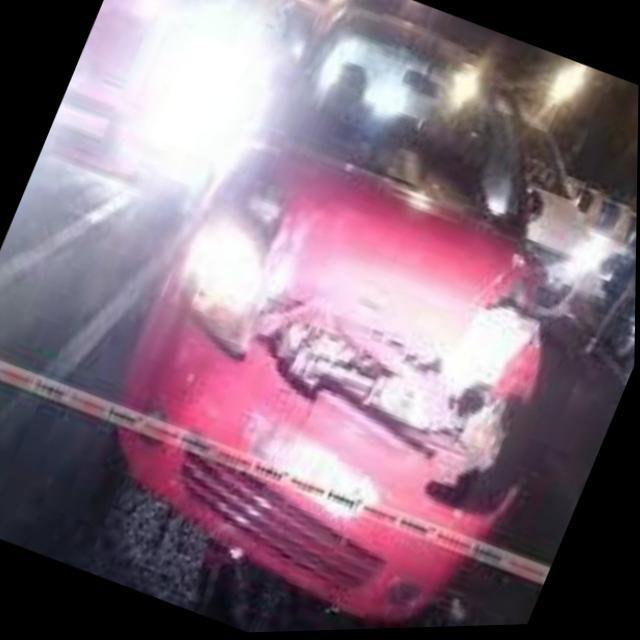dislocated part: (117, 173, 545, 617)
